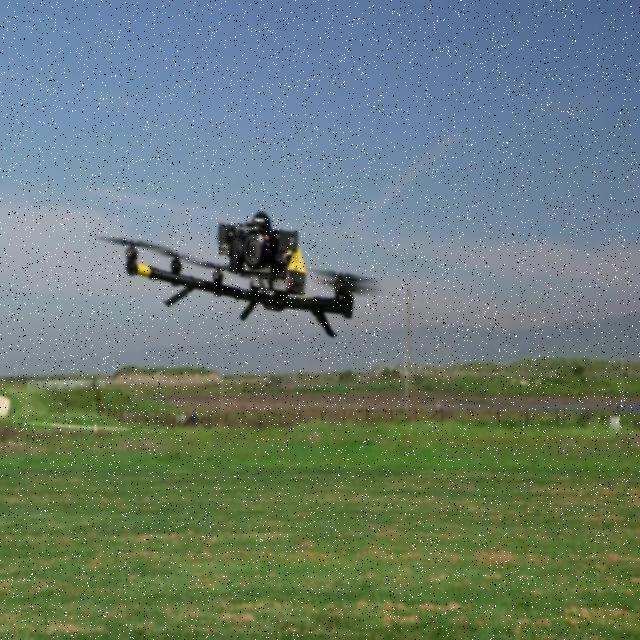UAV: (94, 211, 384, 337)
